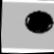correct: (21, 8, 54, 38)
